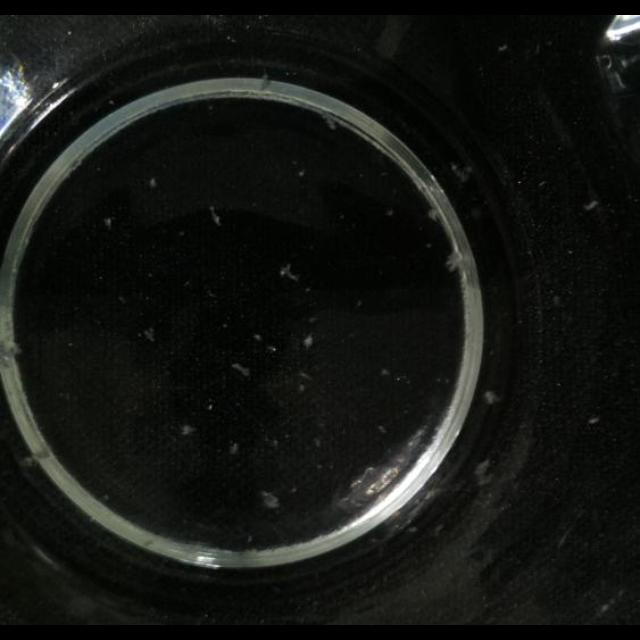Fibre: (450, 162, 472, 182), (444, 250, 464, 272), (280, 264, 300, 284), (259, 490, 279, 510), (230, 362, 250, 378), (208, 206, 222, 226), (142, 326, 156, 342), (104, 217, 112, 229)
microbeads: (483, 390, 501, 406), (583, 199, 599, 211), (302, 334, 314, 348), (180, 423, 194, 435), (588, 416, 600, 426), (148, 178, 156, 188)
